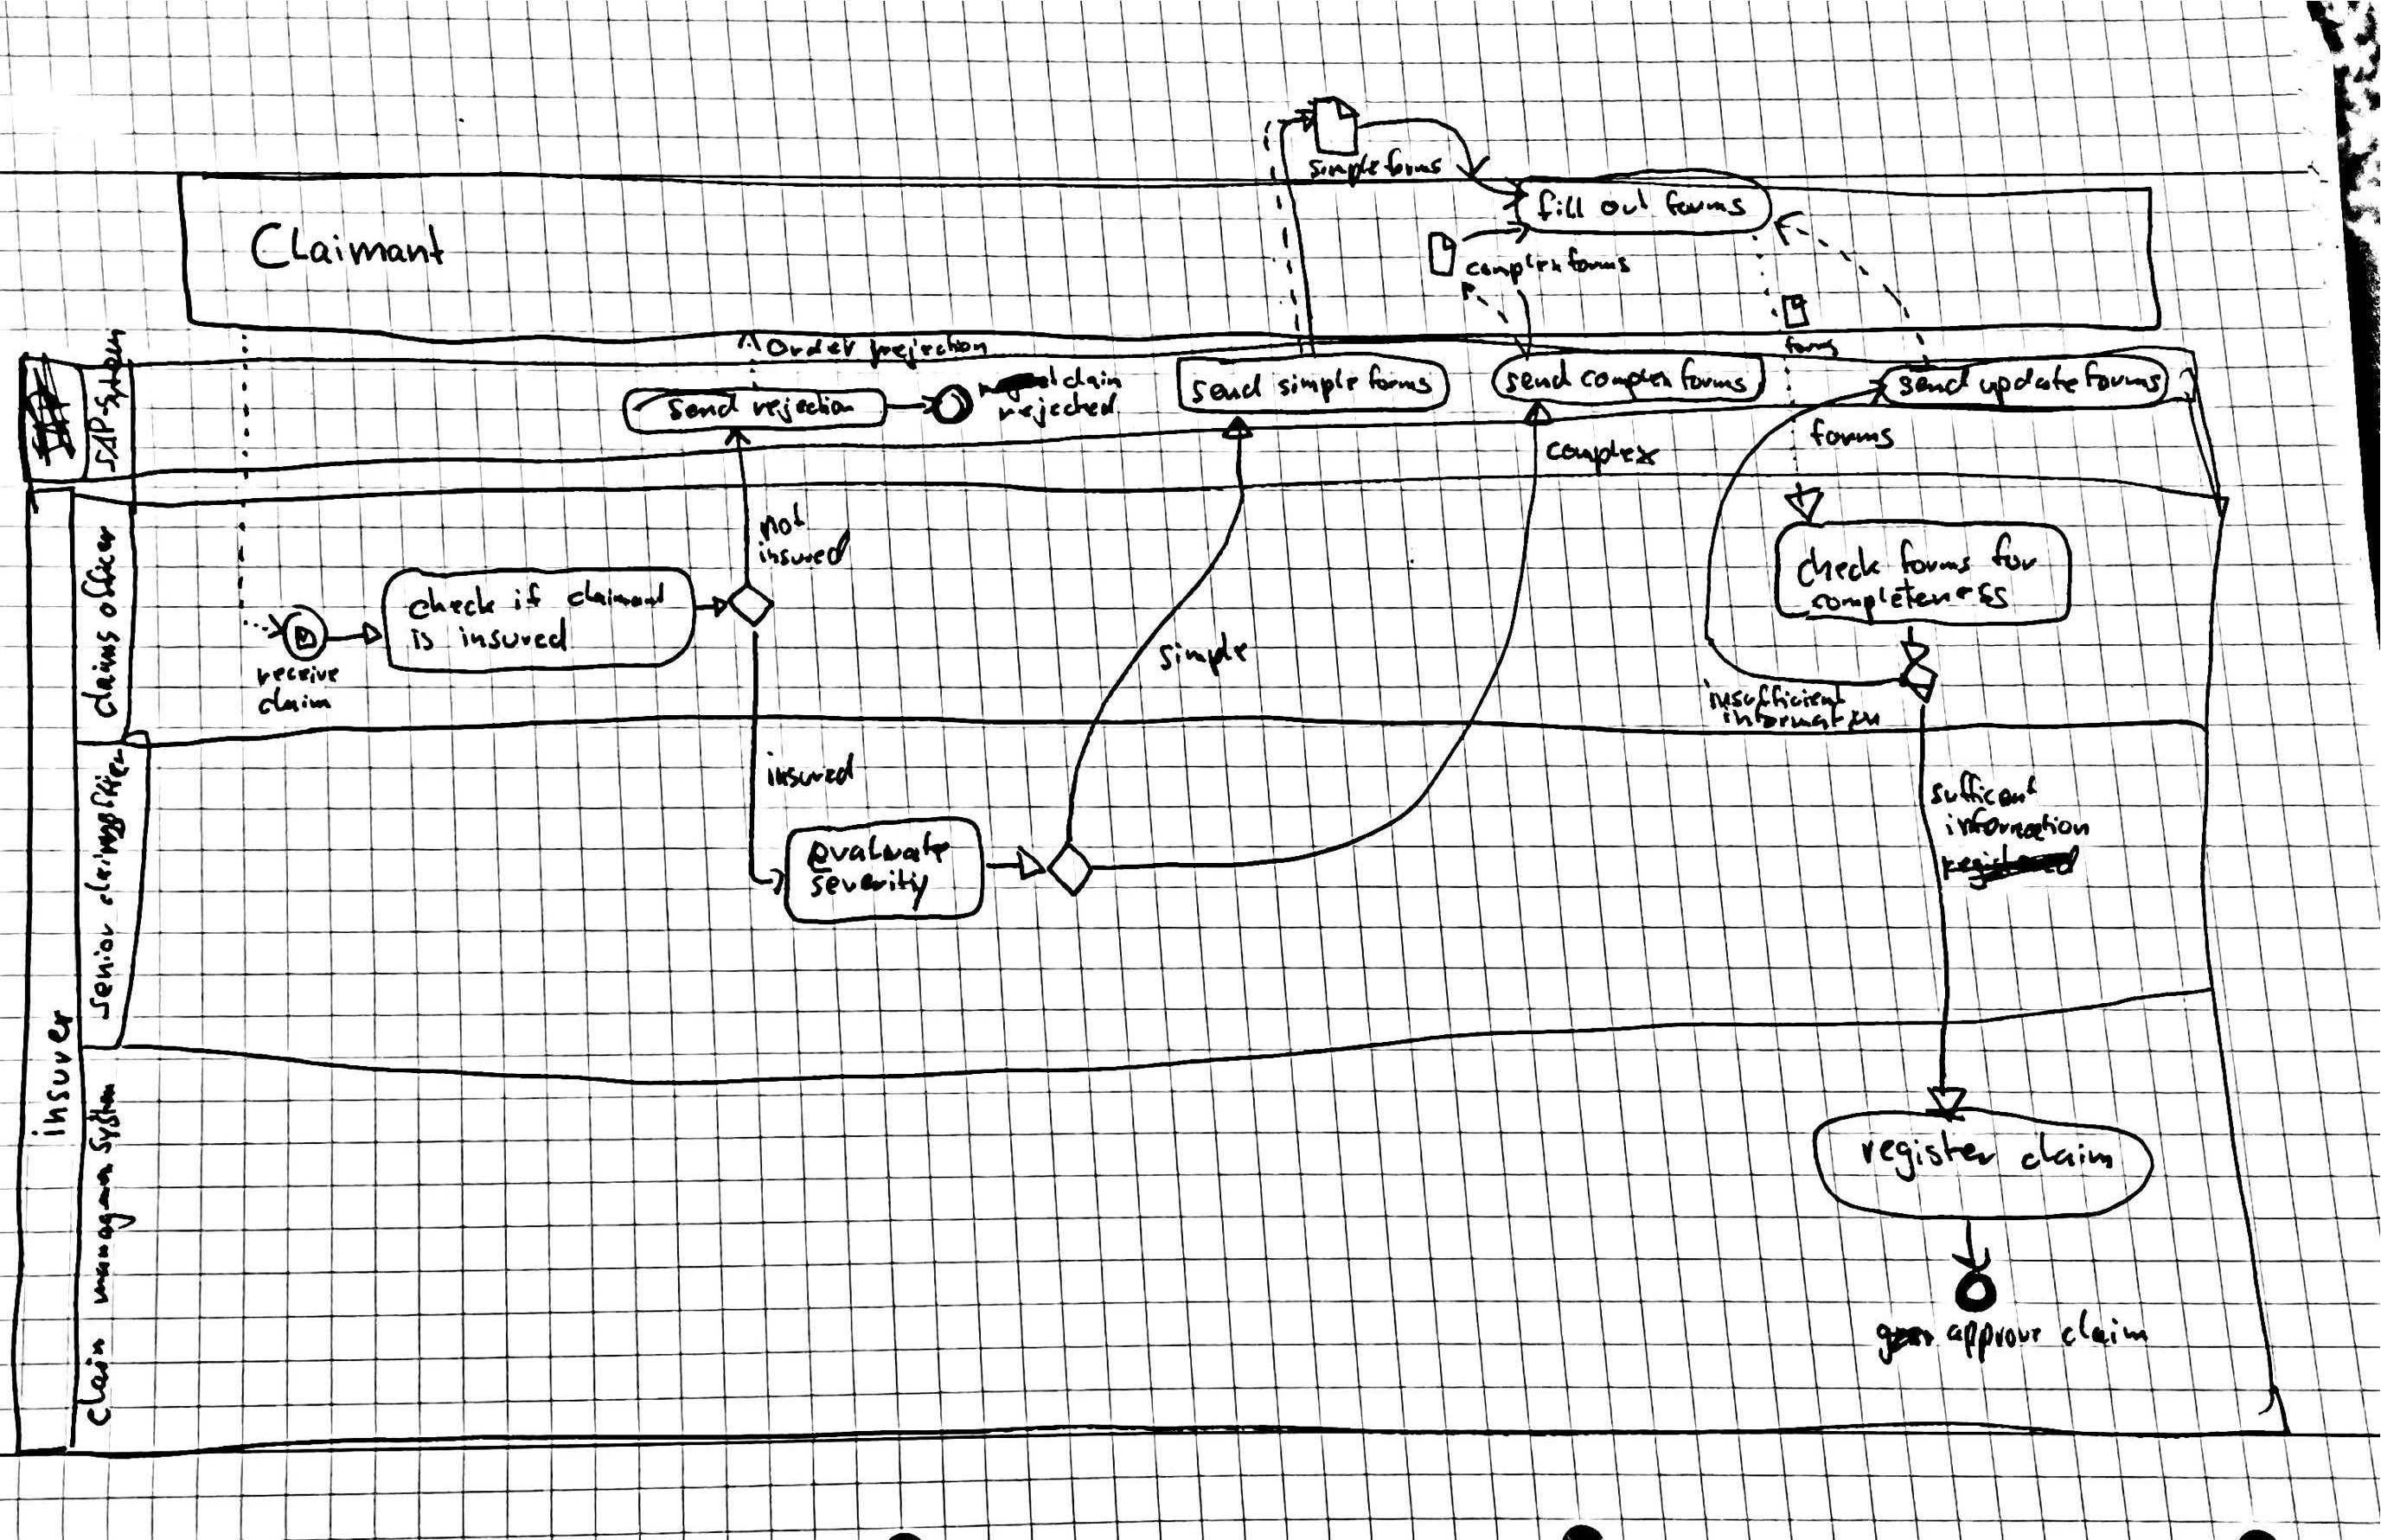Claimant: (259, 224, 446, 274)
Order: (764, 326, 859, 364)
SAP: (85, 418, 123, 472)
Send: (670, 390, 743, 423)
Simple: (1305, 153, 1383, 189)
System: (82, 1073, 125, 1160), (90, 330, 128, 414)
approve: (1938, 1315, 2044, 1361)
check: (1793, 539, 1885, 591), (408, 583, 498, 626)
claim: (2053, 1306, 2147, 1354), (2017, 1134, 2115, 1179), (73, 1330, 115, 1429), (1059, 361, 1130, 394), (259, 690, 335, 718)
claimant: (562, 576, 679, 616)
claims: (82, 623, 125, 716), (83, 824, 123, 910)
completeness: (1808, 578, 2013, 616)
complex: (1545, 435, 1661, 473), (1574, 359, 1673, 401)
complex forms: (1456, 241, 1631, 283)
evaluate: (805, 831, 951, 867)
fill: (1534, 186, 1593, 224)
for: (1985, 532, 2043, 579)
forms: (1892, 534, 1978, 584), (1657, 187, 1758, 225), (1359, 357, 1433, 406), (1669, 359, 1755, 399), (1807, 416, 1895, 453), (2077, 359, 2159, 395), (1774, 328, 1840, 364), (1388, 151, 1451, 184)
if: (503, 579, 545, 614)
information: (1940, 810, 2093, 848), (1718, 706, 1885, 732)
insufficient: (1701, 680, 1853, 713)
insured: (453, 619, 576, 656), (758, 753, 861, 793), (753, 538, 854, 574)
insurer: (36, 1004, 71, 1148)
is: (406, 623, 439, 656)
management: (85, 1155, 135, 1299)
not: (758, 505, 807, 545)
officer: (82, 525, 123, 617), (89, 742, 134, 825)
out: (1600, 186, 1652, 225)
receive: (257, 664, 342, 688)
register: (1855, 1134, 2008, 1179)
rejected: (1003, 390, 1126, 427)
rejection: (875, 330, 1003, 368), (753, 390, 854, 423)
send: (1187, 364, 1263, 409), (1503, 359, 1569, 401), (1893, 364, 1970, 399)
senior: (85, 919, 120, 1018)
severity: (804, 864, 932, 904)
simple: (1154, 633, 1256, 680), (1277, 359, 1357, 406)
sufficent: (1925, 768, 2043, 812)
update: (1977, 362, 2077, 402)
